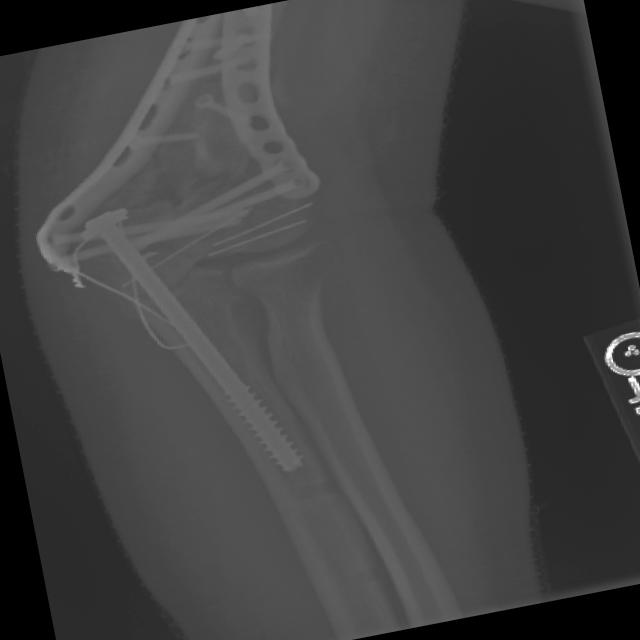elbow positive: (113, 98, 270, 257)
